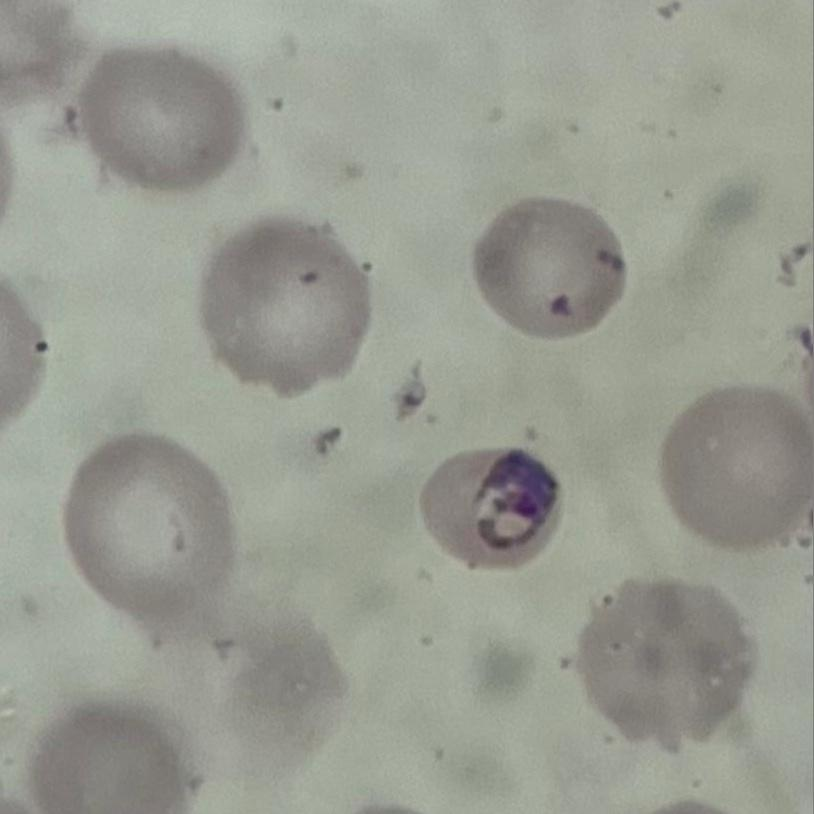Infected: (417, 445, 567, 573)
Uninfected: (575, 577, 755, 750), (200, 215, 370, 397), (65, 435, 230, 610), (658, 384, 809, 550), (75, 47, 243, 188), (475, 195, 626, 340), (35, 707, 189, 814)
